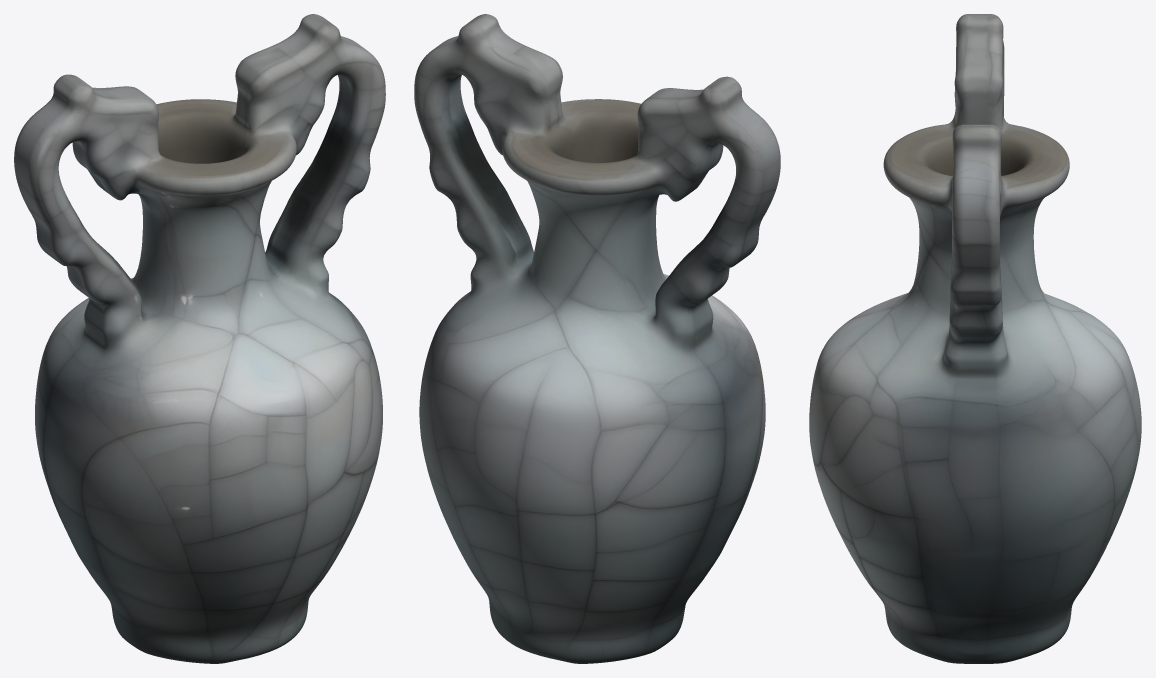
The model's file is guanyao.glb.
3 renders of one model, left to right at view 1: azimuth 30°, elevation 25°; view 2: azimuth 150°, elevation 25°; view 3: azimuth 270°, elevation 25°, orthographic. The views are drawn at different scales.
Size of the model in its own units: 0.6961 by 1.1 by 0.5946.
1 material, 1 textured.
